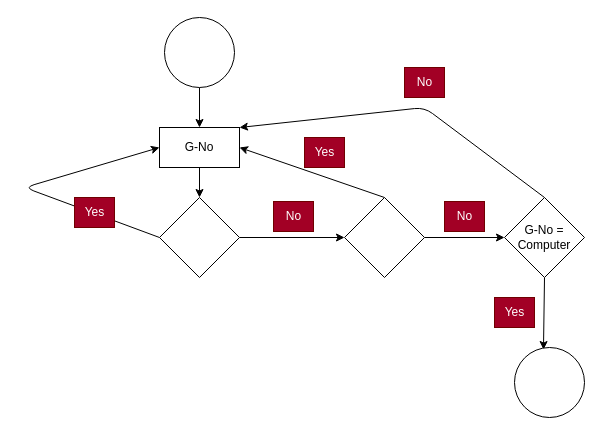
The diagram is 602 pixels wide and 435 high, and some of its shapes have lost their labels. Here are the shapes that lost their labels. From the top down, the centre of each, then its label:
At point 199,52: "in".
At point 199,237: "G-No > Computer".
At point 384,237: "G-No < Computer".
At point 549,382: "out".
